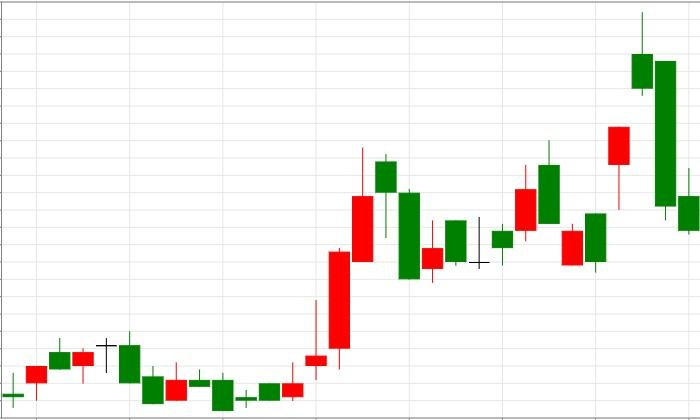hanging_man_fall: (282, 148, 396, 401)
shooting_star_fall: (562, 12, 653, 272)
